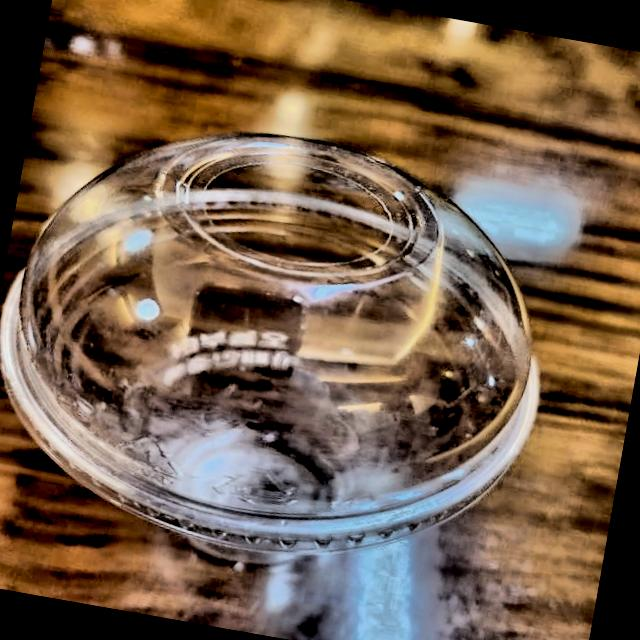plastic cup: (0, 82, 589, 640)
